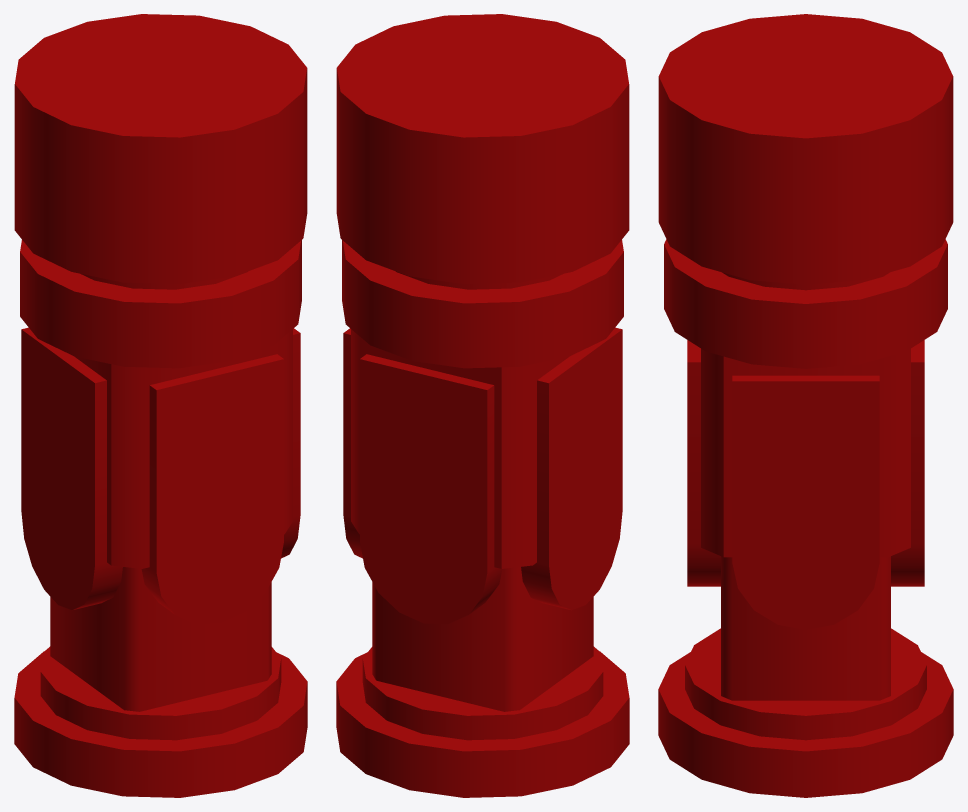
File: totem_circular.fbx
The picture shows the model from 3 angles, left to right: view 1: azimuth 30°, elevation 25°; view 2: azimuth 150°, elevation 25°; view 3: azimuth 270°, elevation 25°; orthographic projection.
Parts seen in each view (by area): view 1: Circulo; view 2: Circulo; view 3: Circulo.
Boxes of the visible parts, x1,y1,x2,y2 form: Circulo: [14, 14, 307, 797]; Circulo: [336, 14, 629, 797]; Circulo: [658, 14, 953, 797].
Bounding box in the file's own units: 13 × 32.05 × 13.
